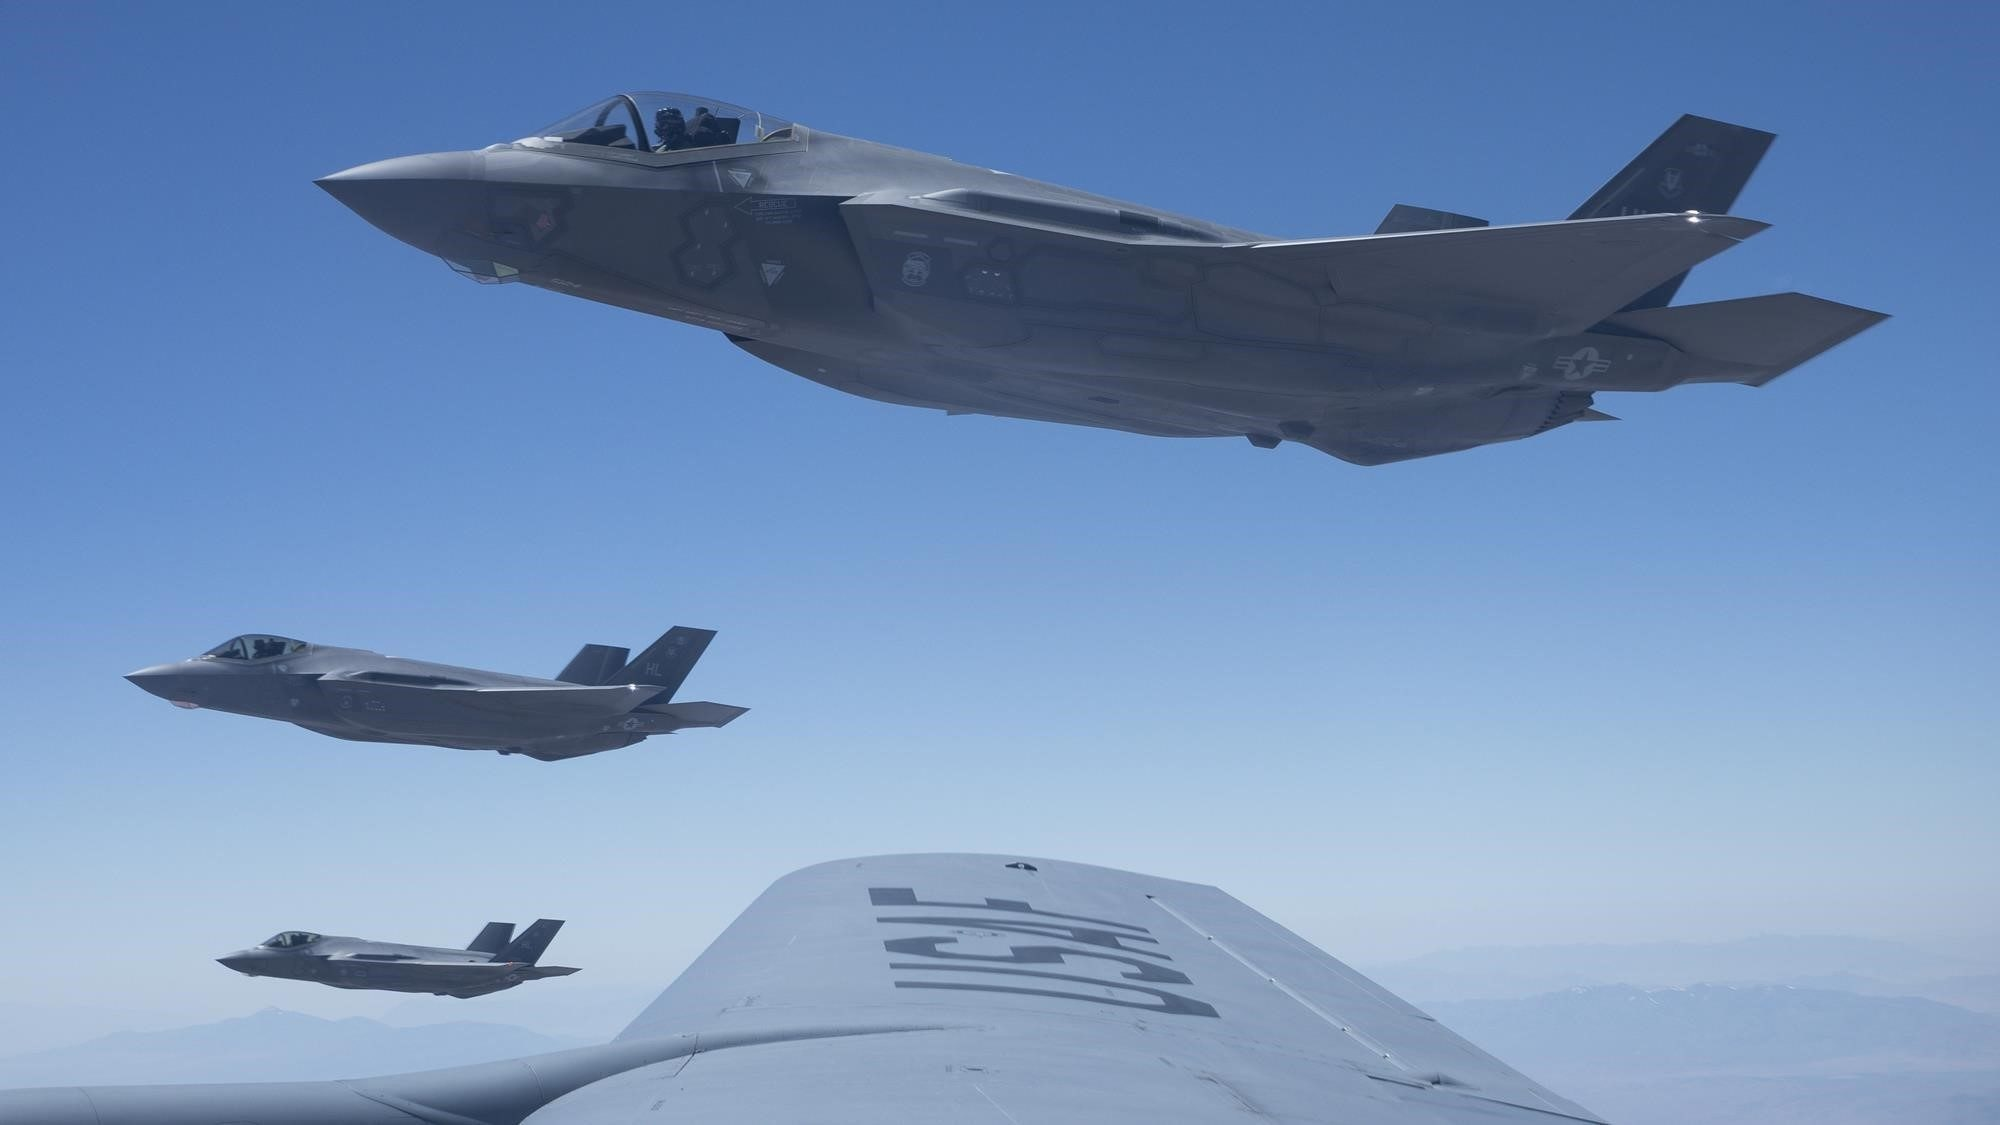airplane: (308, 76, 1891, 462), (115, 593, 768, 760), (207, 886, 569, 1005)
